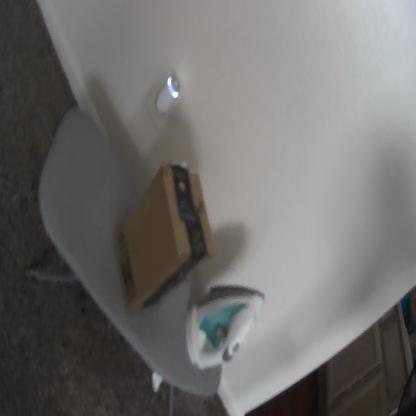package: (113, 160, 217, 324)
